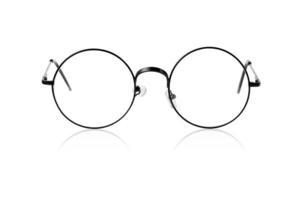spectacles: (28, 44, 266, 133)
